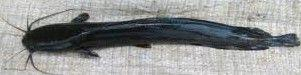Catfish: (21, 12, 300, 63)
